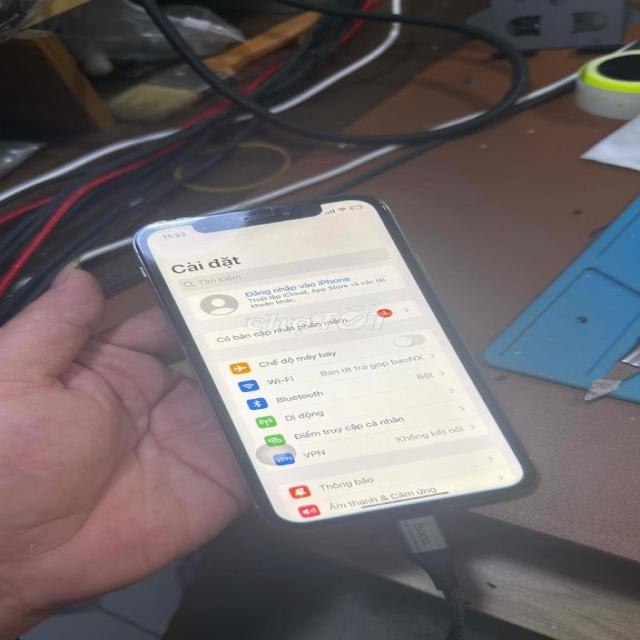gen_x_xs: (119, 191, 538, 533)
